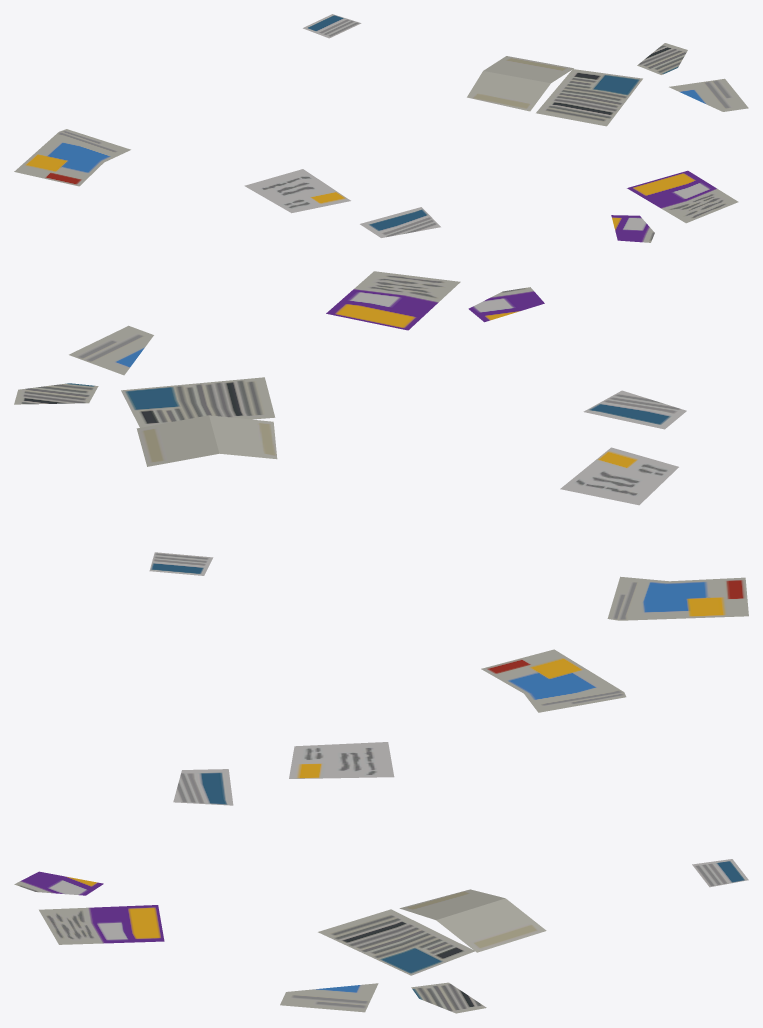
File: SM_Props_Papers_01.obj
The picture shows the model from 3 angles, top to bottom: view 1: azimuth 30°, elevation 25°; view 2: azimuth 150°, elevation 25°; view 3: azimuth 270°, elevation 25°; orthographic projection. The views are drawn at different scales.
Parts seen in each view (by area): view 1: SM_Props_Papers_01_0; view 2: SM_Props_Papers_01_0; view 3: SM_Props_Papers_01_0.
Part boxes in pixels (left/top/right/bottom): SM_Props_Papers_01_0: left=14, top=14, right=748, bottom=242; SM_Props_Papers_01_0: left=14, top=271, right=748, bottom=620; SM_Props_Papers_01_0: left=14, top=649, right=748, bottom=1013.
Size of the model in its own units: 2.68 by 0.0345 by 2.3.
Materials: 1 (1 with a texture image).
